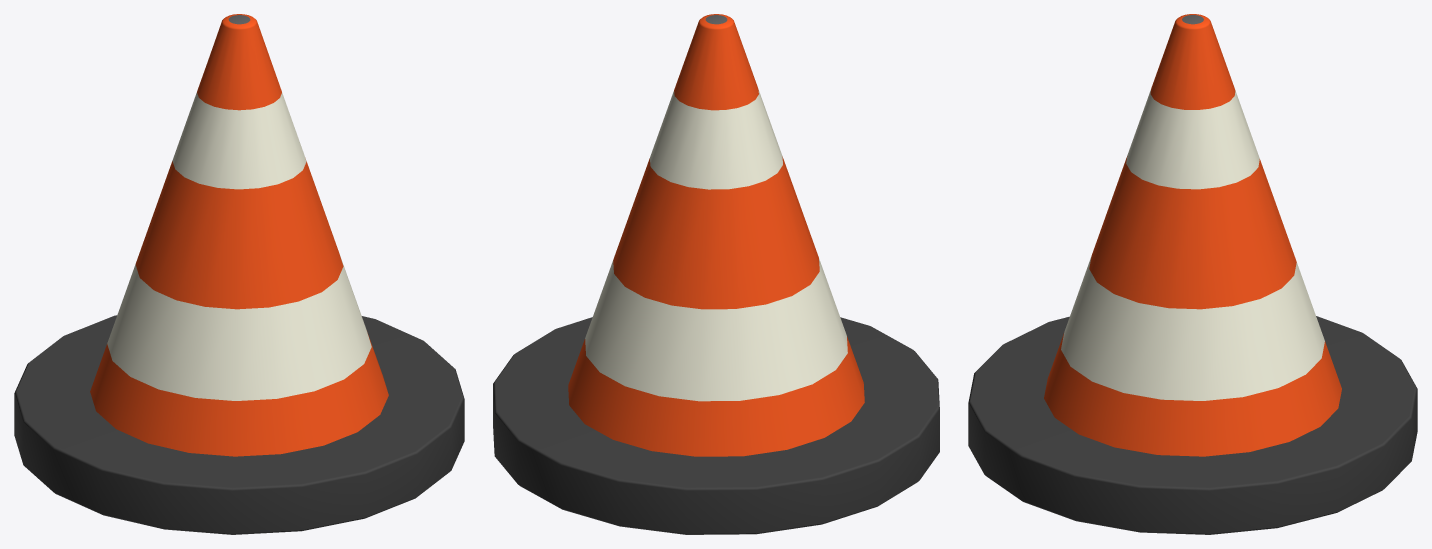
File: Town_5_Cone_1.glb
The picture shows the model from 3 angles, left to right: view 1: azimuth 30°, elevation 25°; view 2: azimuth 150°, elevation 25°; view 3: azimuth 270°, elevation 25°; orthographic projection.
Parts seen in each view (by area): view 1: Town_5_Cone_1; view 2: Town_5_Cone_1; view 3: Town_5_Cone_1.
Boxes of the visible parts, x1,y1,x2,y2 form: Town_5_Cone_1: [14, 14, 464, 534]; Town_5_Cone_1: [493, 14, 939, 534]; Town_5_Cone_1: [968, 14, 1417, 534].
Bounding box in the file's own units: 0.6495 × 0.6725 × 0.6495.
1 material, 1 textured.
